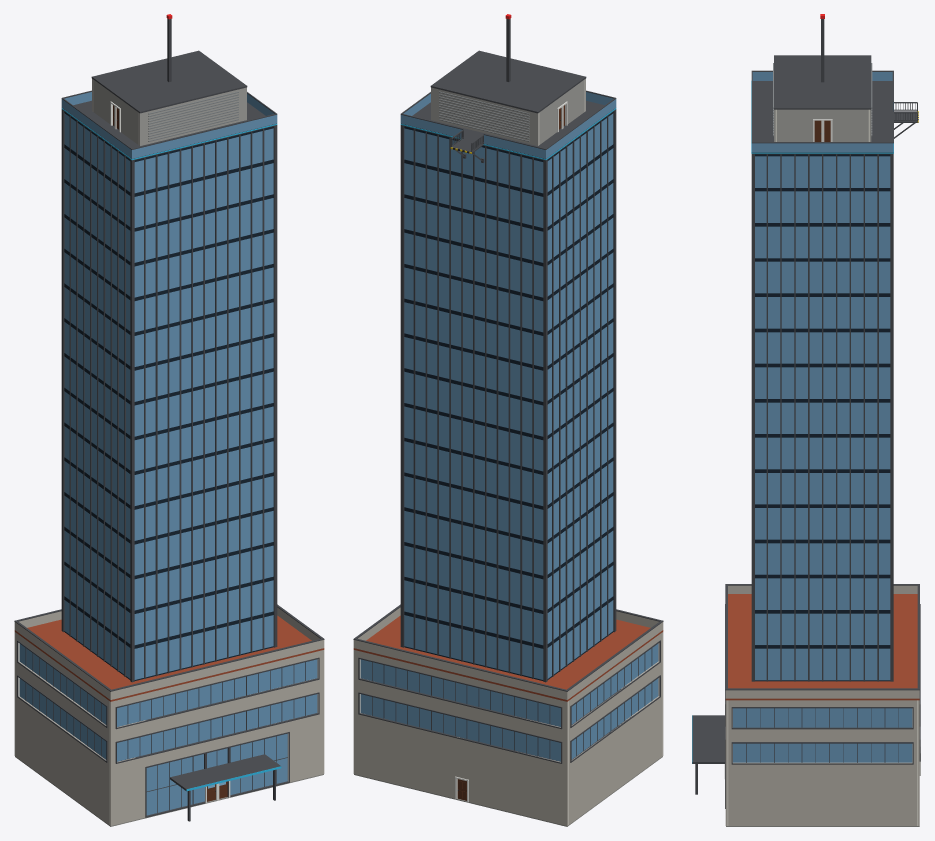
File: OfficeTower.glb
3 renders of one model, left to right at view 1: azimuth 30°, elevation 25°; view 2: azimuth 150°, elevation 25°; view 3: azimuth 270°, elevation 25°, orthographic.
Parts seen in each view (by area): view 1: OfficeTower_Glass, OfficeTower_Metal, OfficeTower_Stone, OfficeTower_DarkGlass, OfficeTower_Concrete, OfficeTower_Roof, OfficeTower_Louver, OfficeTower_NeonBlue, OfficeTower_Trim; view 2: OfficeTower_Glass, OfficeTower_Metal, OfficeTower_Stone, OfficeTower_DarkGlass, OfficeTower_Concrete, OfficeTower_Roof, OfficeTower_Louver; view 3: OfficeTower_Glass, OfficeTower_Metal, OfficeTower_Stone, OfficeTower_DarkGlass, OfficeTower_Roof, OfficeTower_Concrete, OfficeTower_WallsIn.
Boxes of the visible parts, box(x1,y1,x2,y2) form: OfficeTower_Glass: box(19, 92, 317, 815); OfficeTower_Metal: box(14, 19, 324, 821); OfficeTower_Stone: box(14, 607, 324, 825); OfficeTower_DarkGlass: box(64, 111, 273, 680); OfficeTower_Concrete: box(92, 78, 246, 145); OfficeTower_Roof: box(14, 615, 324, 701); OfficeTower_Louver: box(148, 91, 238, 141); OfficeTower_NeonBlue: box(61, 108, 281, 791); OfficeTower_Trim: box(18, 101, 318, 803); OfficeTower_Glass: box(360, 92, 658, 761); OfficeTower_Metal: box(353, 19, 663, 763); OfficeTower_Stone: box(353, 607, 663, 825); OfficeTower_DarkGlass: box(404, 111, 613, 680); OfficeTower_Concrete: box(431, 78, 585, 145); OfficeTower_Roof: box(353, 615, 663, 701); OfficeTower_Louver: box(439, 91, 529, 141); OfficeTower_Glass: box(733, 72, 912, 762); OfficeTower_Metal: box(692, 19, 920, 808); OfficeTower_Stone: box(725, 585, 919, 825); OfficeTower_DarkGlass: box(755, 154, 890, 681); OfficeTower_Roof: box(725, 594, 919, 700); OfficeTower_Concrete: box(774, 109, 871, 141); OfficeTower_WallsIn: box(727, 109, 918, 825).
Bounding box in the file's own units: 90.6 × 302 × 82.5.
